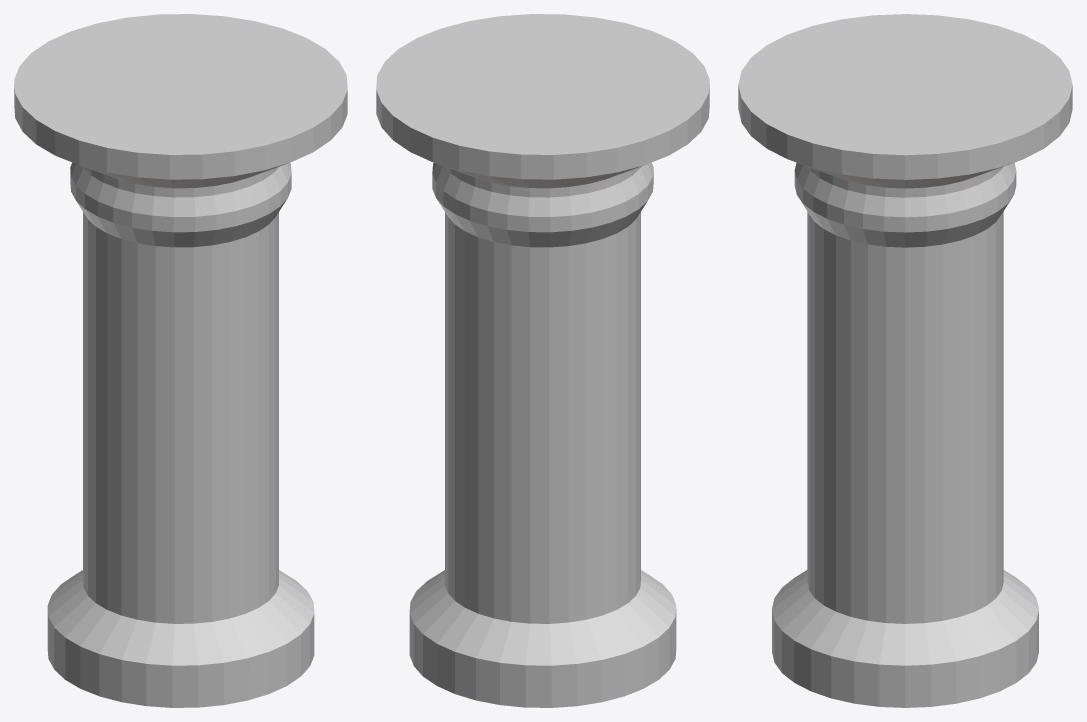
Rendered from Pedestal.fbx.
3 renders of one model, left to right at view 1: azimuth 30°, elevation 25°; view 2: azimuth 150°, elevation 25°; view 3: azimuth 270°, elevation 25°, orthographic.
Parts seen in each view (by area): view 1: Cylinder; view 2: Cylinder; view 3: Cylinder.
Part boxes in pixels (x1=…): Cylinder: x1=14, y1=14, x2=347, y2=707; Cylinder: x1=376, y1=14, x2=709, y2=707; Cylinder: x1=738, y1=14, x2=1072, y2=707.
Size of the model in its own units: 503 by 942 by 503.
Materials: 1 (1 with a texture image).
